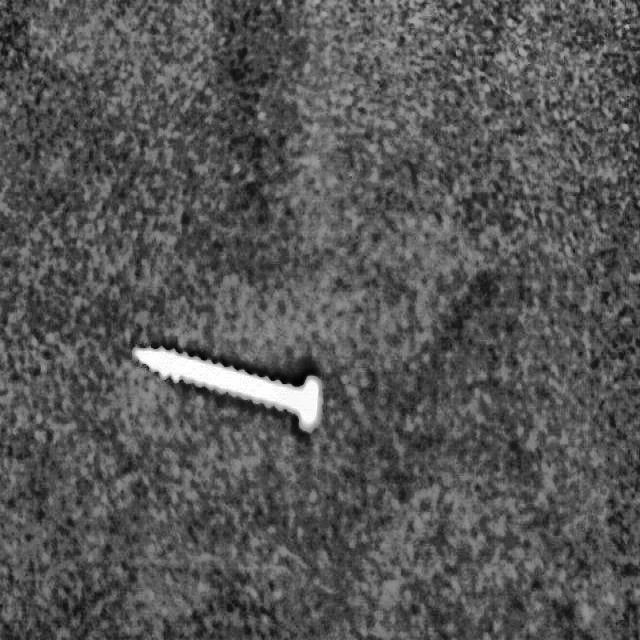Sheet metal screw: (132, 344, 321, 429)
